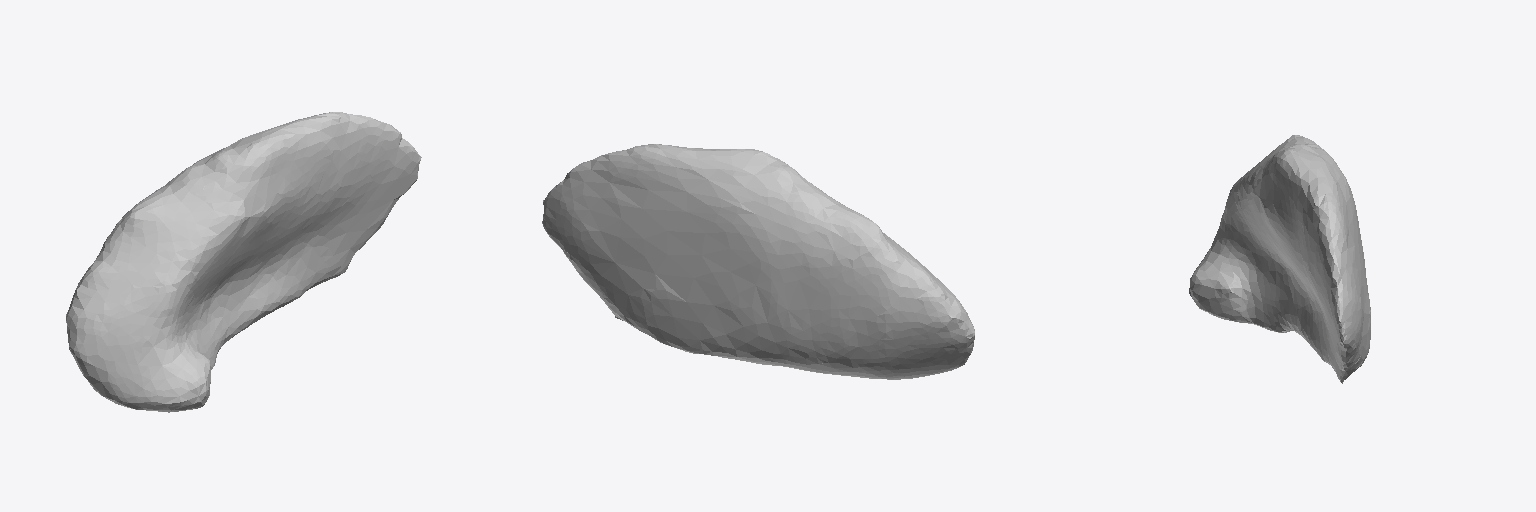
File: R-Putamen.obj
The picture shows the model from 3 angles: view 1: azimuth 30°, elevation 25°; view 2: azimuth 150°, elevation 25°; view 3: azimuth 270°, elevation 25°; orthographic projection.
Visible parts, largest first — view 1: R-putamen_putamen.001; view 2: R-putamen_putamen.001; view 3: R-putamen_putamen.001.
Boxes of the visible parts, x1,y1,x2,y2 form: R-putamen_putamen.001: [66, 112, 421, 412]; R-putamen_putamen.001: [542, 144, 974, 379]; R-putamen_putamen.001: [1189, 135, 1370, 383].
Bounding box in the file's own units: 64.65 × 33.99 × 26.07.